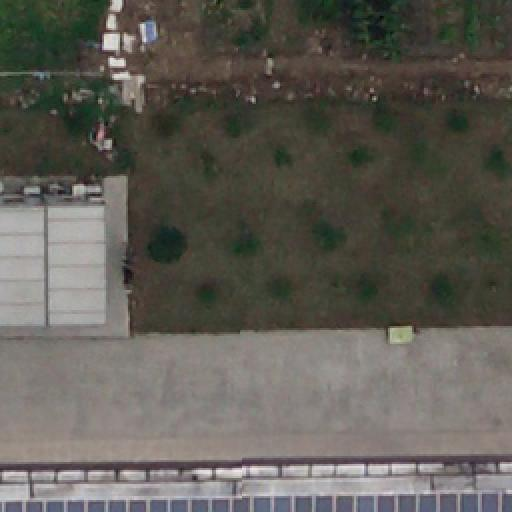solar-panel: (0, 488, 512, 512)
